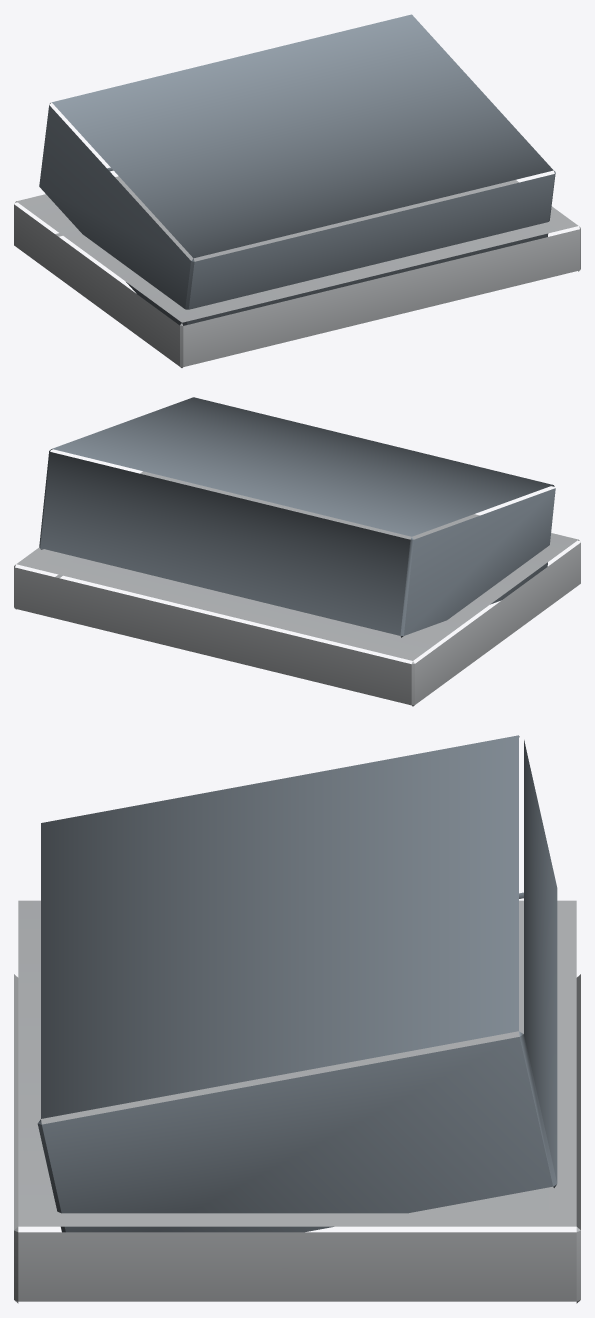
Rendered from skylight.glb.
3 renders of one model, top to bottom at view 1: azimuth 30°, elevation 25°; view 2: azimuth 150°, elevation 25°; view 3: azimuth 270°, elevation 25°, orthographic. The views are drawn at different scales.
Parts seen in each view (by area): view 1: props_skylight; view 2: props_skylight; view 3: props_skylight.
Part boxes in pixels (x1,y1,x2,y2): props_skylight: [14, 14, 580, 367]; props_skylight: [14, 397, 580, 706]; props_skylight: [14, 735, 580, 1303].
Bounding box in the file's own units: 2.2 × 0.8017 × 1.6.
